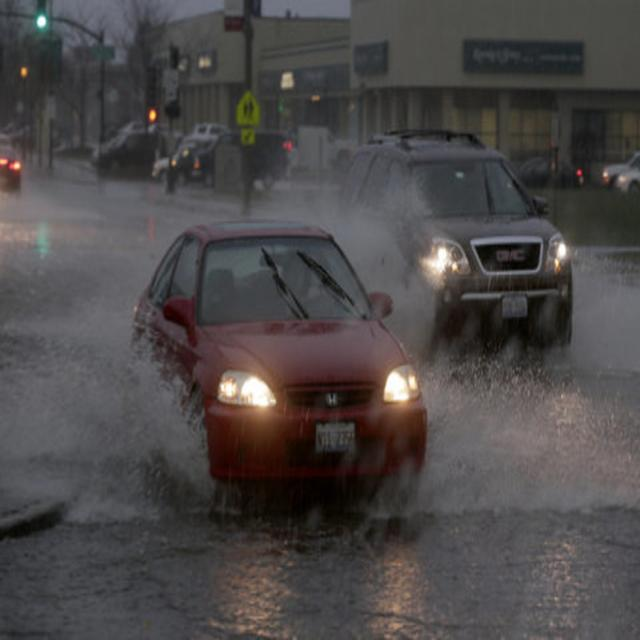car: (128, 218, 428, 499), (330, 131, 569, 346), (195, 126, 285, 190), (93, 129, 167, 168), (599, 146, 635, 185), (1, 144, 27, 194)
